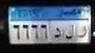6: (40, 23, 48, 40), (13, 24, 21, 39), (22, 23, 29, 40), (31, 24, 38, 40)
daal: (52, 27, 62, 41)
laam: (65, 23, 75, 42)
raa: (77, 24, 88, 40)
